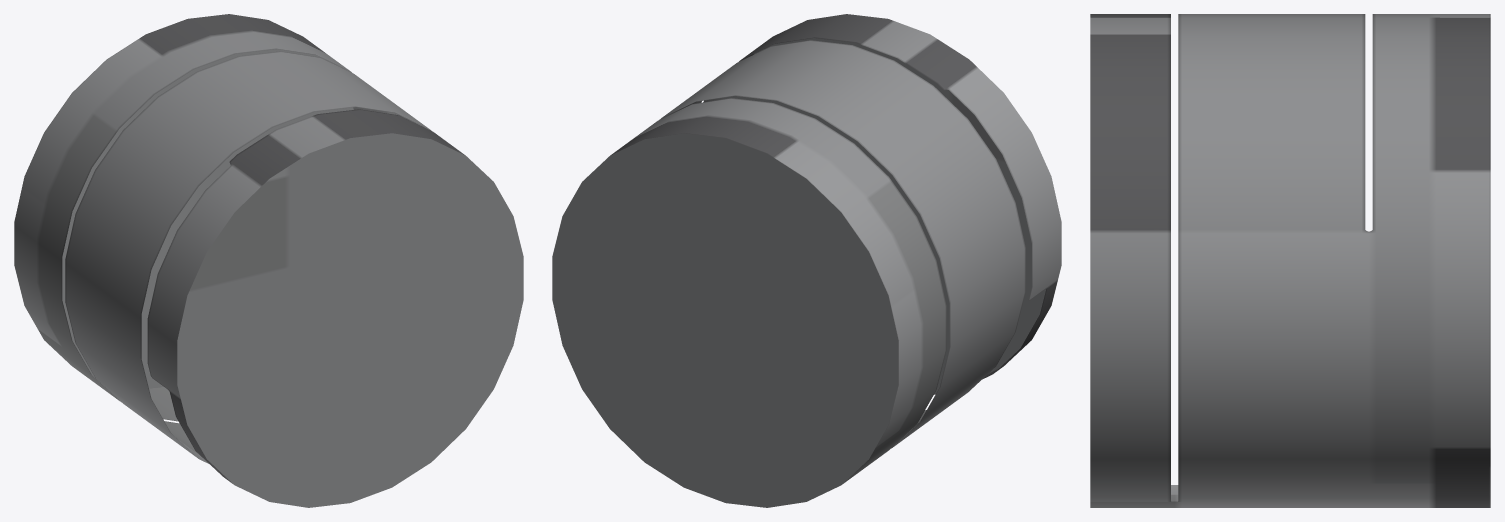
The picture shows the model from 3 angles, left to right: view 1: azimuth 30°, elevation 25°; view 2: azimuth 150°, elevation 25°; view 3: azimuth 270°, elevation 25°; orthographic projection. The views are drawn at different scales.
Size of the model in its own units: 0.4878 by 0.4914 by 0.3975.
